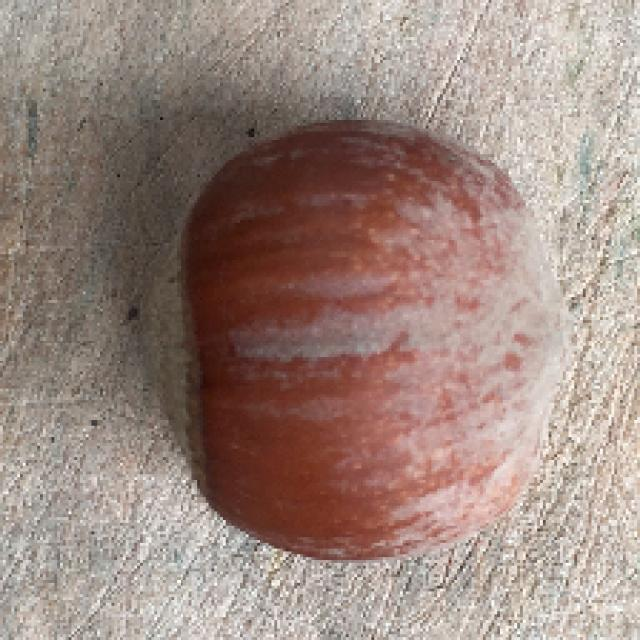QualityHazelnut: (136, 114, 563, 560)
